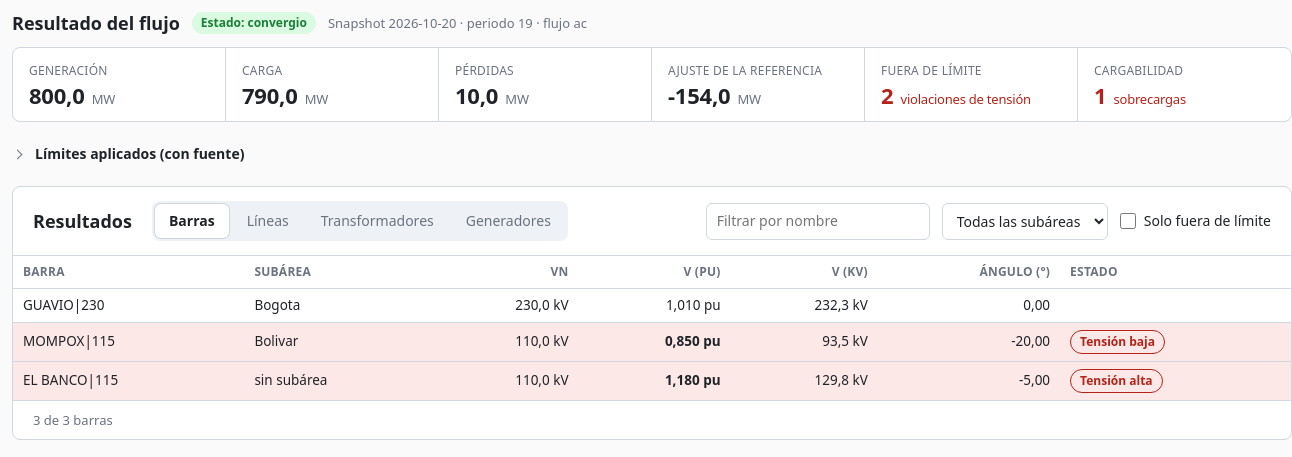
Test: ResultsTables › muestra las líneas sobrecargadas resaltadas
The width and height of the screenshot is (1292, 457).
Click the button "Líneas": (268, 221) [233,204,303,238]
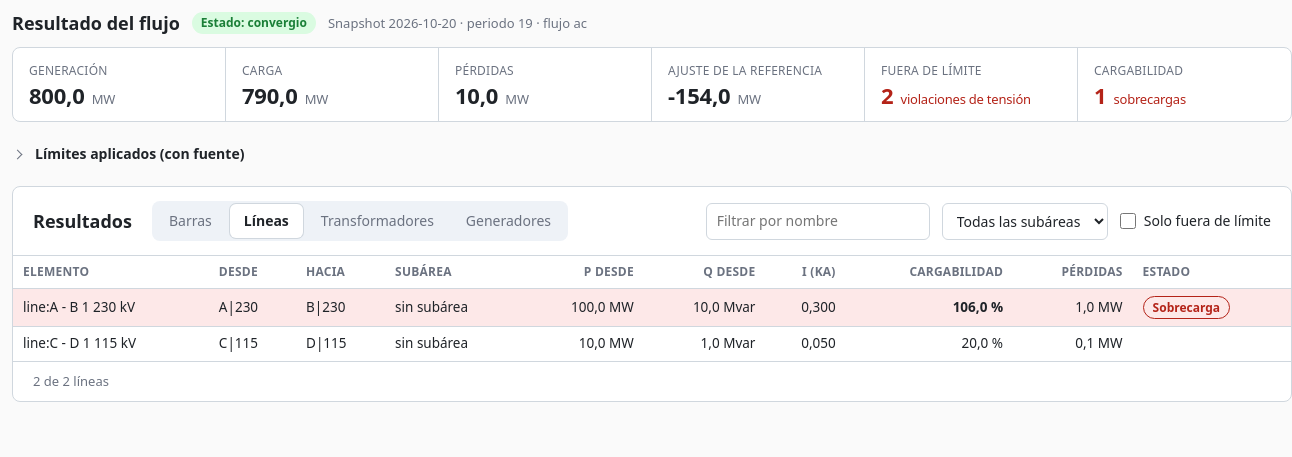
Click the checkbox with test id "only-violations": (1128, 221) [1120,213,1136,229]
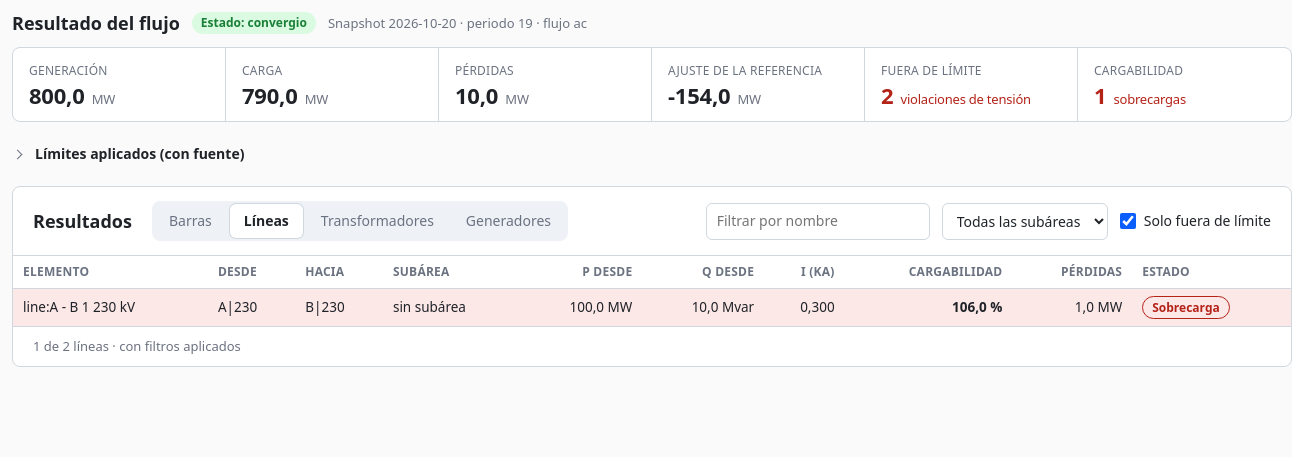
Check: the number of rows is 2, box [13,256,1291,288]; [13,288,1291,326]
